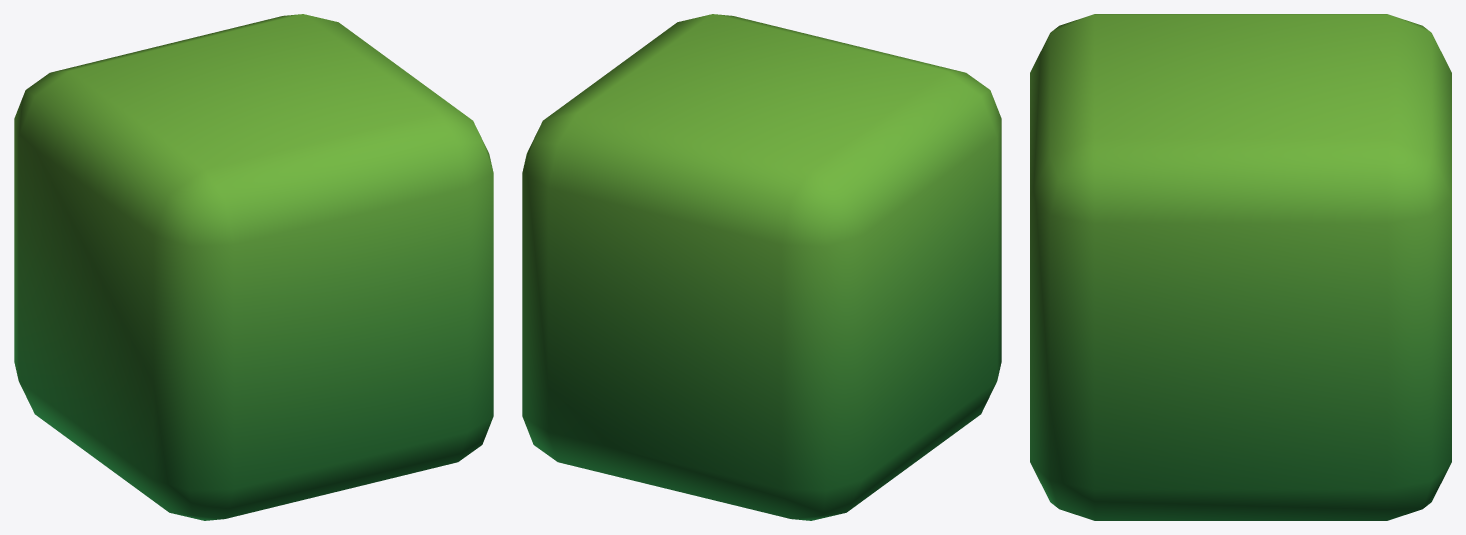
File: Bush_2_C.glb
3 views of the same model, side by side, from view 1: azimuth 30°, elevation 25°; view 2: azimuth 150°, elevation 25°; view 3: azimuth 270°, elevation 25° (orthographic). The views are drawn at different scales.
Parts seen in each view (by area): view 1: Bush_2_C_Color1; view 2: Bush_2_C_Color1; view 3: Bush_2_C_Color1.
Part boxes in pixels (left/top/right/bottom): Bush_2_C_Color1: left=14, top=14, right=493, bottom=520; Bush_2_C_Color1: left=522, top=14, right=1001, bottom=520; Bush_2_C_Color1: left=1030, top=14, right=1451, bottom=520.
Bounding box in the file's own units: 1.32 × 1.32 × 1.32.
1 material, 1 textured.
